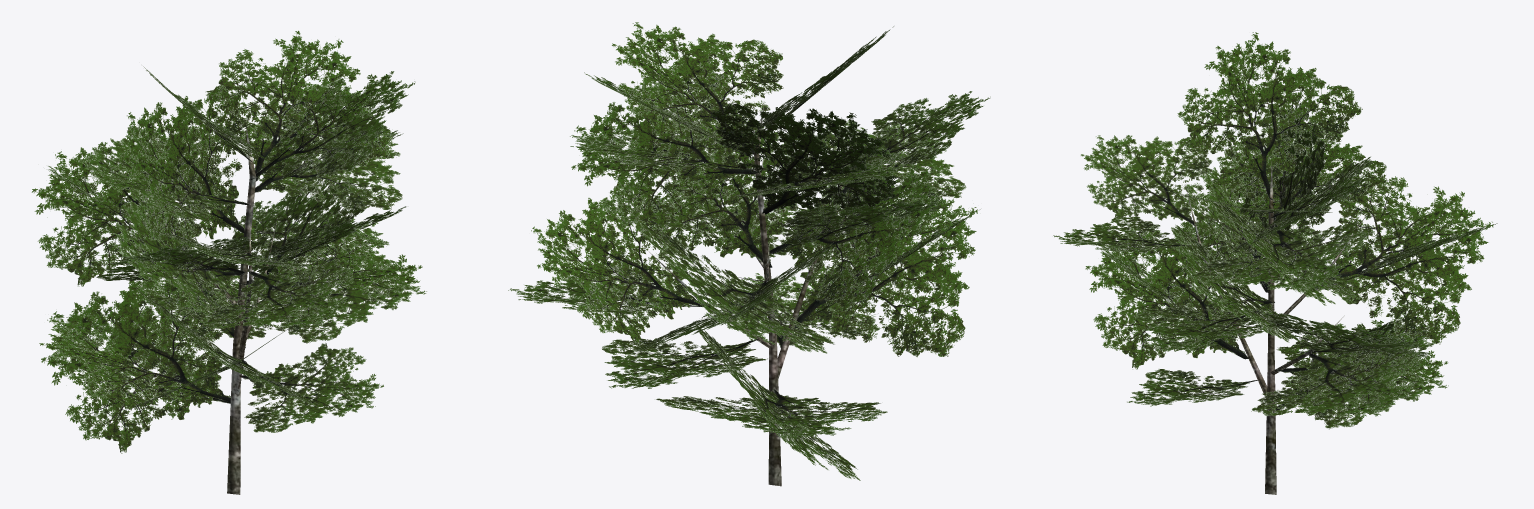
3 renders of one model, left to right at view 1: azimuth 30°, elevation 25°; view 2: azimuth 150°, elevation 25°; view 3: azimuth 270°, elevation 25°, orthographic. The views are drawn at different scales.
Parts seen in each view (by area): view 1: 平面; view 2: 平面; view 3: 平面.
Part boxes in pixels (x1,y1,x2,y2): 平面: [31, 30, 426, 494]; 平面: [508, 22, 990, 486]; 平面: [1053, 32, 1497, 494].
Bounding box in the file's own units: 13.86 × 11.31 × 13.51.
